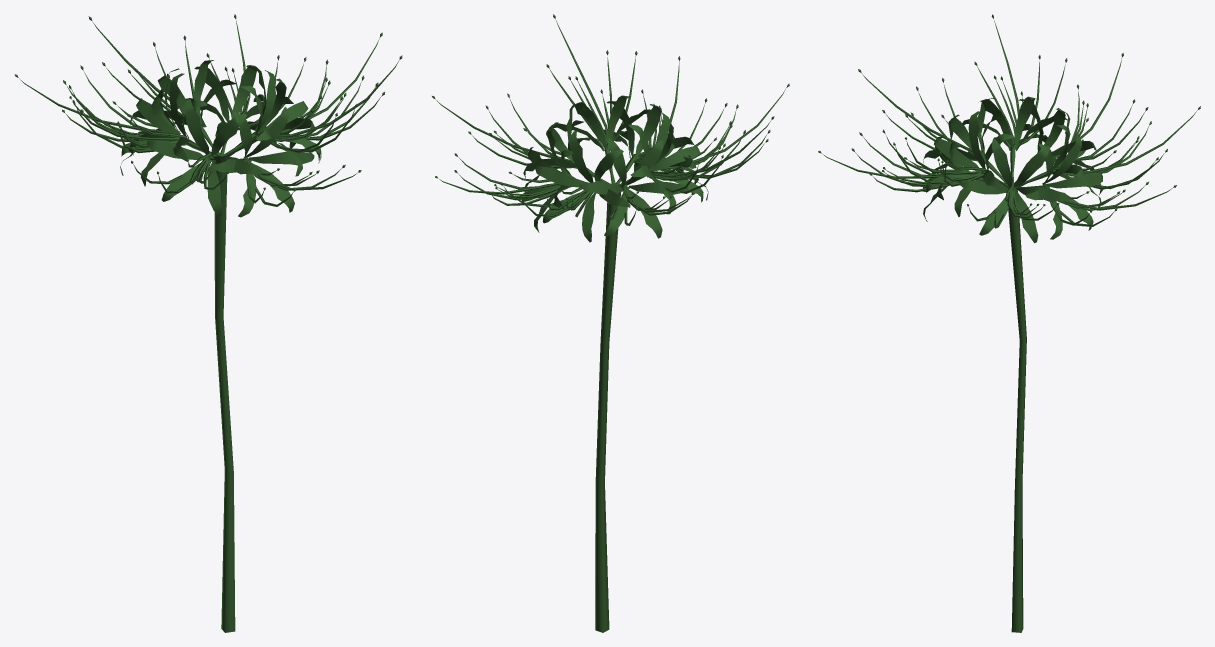
The model's file is Higanbana.fbx.
3 renders of one model, left to right at view 1: azimuth 30°, elevation 25°; view 2: azimuth 150°, elevation 25°; view 3: azimuth 270°, elevation 25°, orthographic. The views are drawn at different scales.
Parts seen in each view (by area): view 1: Higanbana; view 2: Higanbana; view 3: Higanbana.
Part boxes in pixels (left/top/right/bottom): Higanbana: left=14, top=14, right=402, bottom=632; Higanbana: left=432, top=14, right=789, bottom=632; Higanbana: left=818, top=14, right=1200, bottom=632.
Bounding box in the file's own units: 0.275 × 0.4559 × 0.2905.
